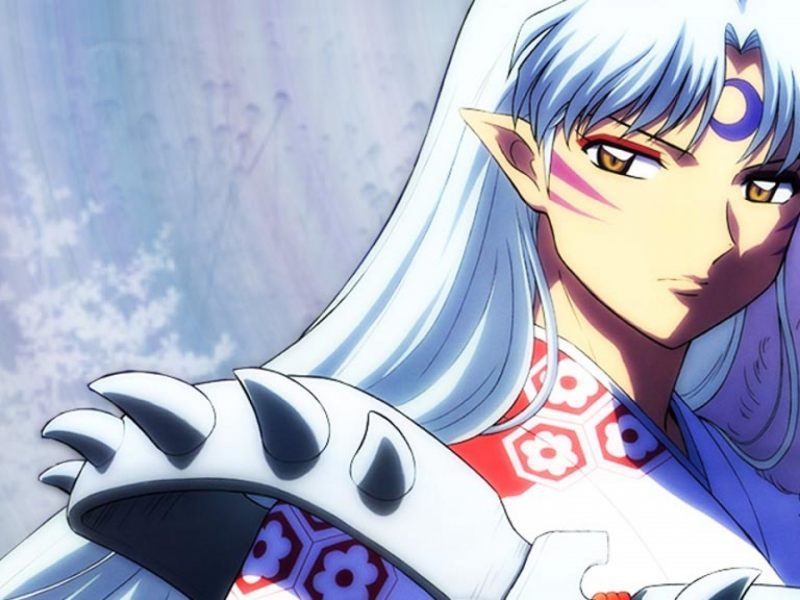sesshomaru: (455, 1, 800, 435)
